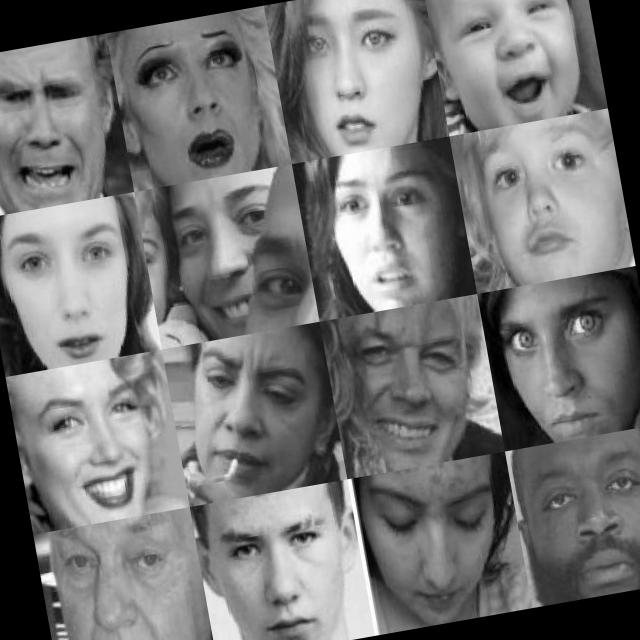angry: (172, 339, 319, 494)
fear: (130, 29, 265, 176), (324, 151, 453, 297)
happy: (339, 306, 482, 464), (20, 364, 157, 528), (144, 177, 290, 323), (437, 0, 581, 123)
neutral: (359, 464, 499, 622), (490, 287, 632, 439), (470, 118, 610, 270), (291, 2, 420, 156), (43, 516, 198, 640), (213, 502, 349, 640), (12, 224, 126, 360), (528, 452, 640, 590)
sad: (0, 65, 105, 208)
